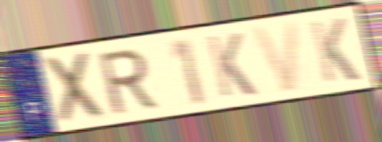1: (170, 36, 208, 107)
K: (308, 16, 363, 85), (204, 31, 259, 100)
R: (96, 46, 160, 117)
V: (250, 19, 301, 95)
X: (43, 48, 109, 127)
